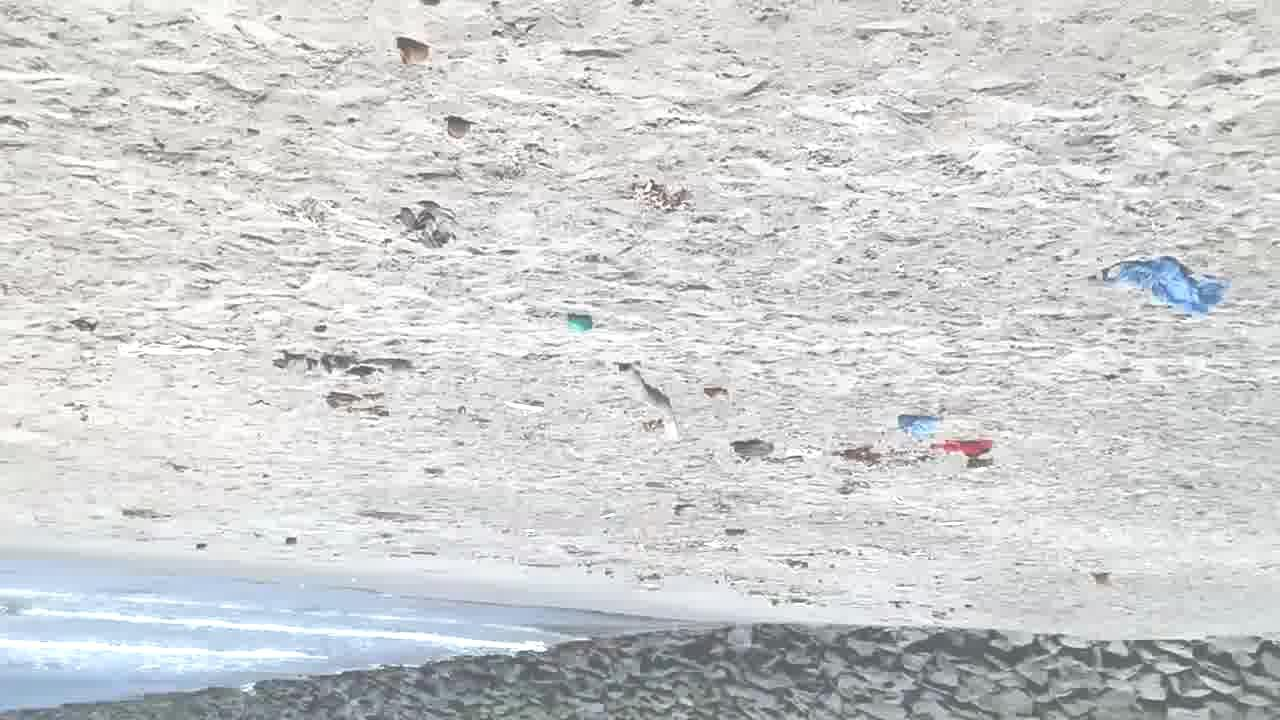large collection of objects: (399, 196, 454, 253)
obj: (1112, 256, 1238, 318), (618, 362, 681, 441), (281, 354, 420, 380), (113, 334, 246, 356), (846, 448, 934, 477), (632, 181, 700, 214), (934, 440, 990, 460), (896, 415, 942, 432), (444, 112, 472, 138), (562, 316, 594, 336), (502, 398, 544, 412), (1090, 572, 1112, 588)
sand/background: (0, 549, 1279, 719)
